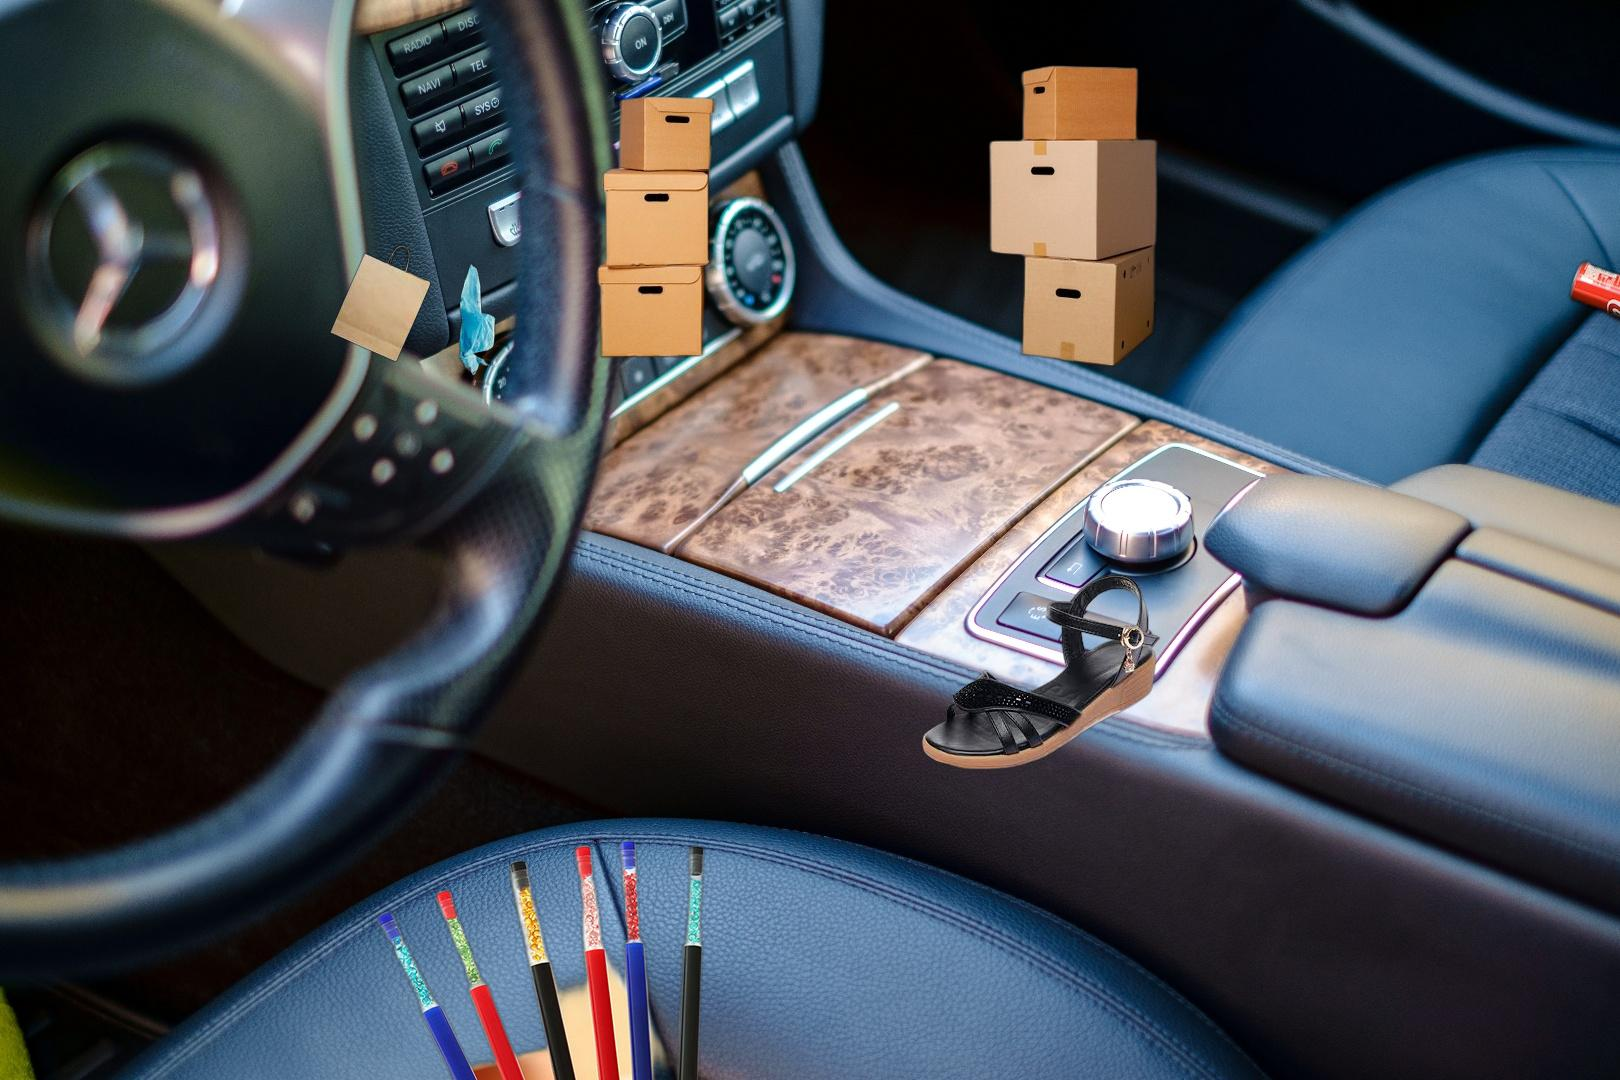metal-cans: (1565, 254, 1620, 337)
paper-bag: (329, 106, 599, 406)
penholder: (371, 833, 1108, 1080)
plastic-bag: (457, 260, 499, 378)
shoes: (920, 573, 1162, 771)
trashbox-cardboard: (592, 63, 1162, 370)
